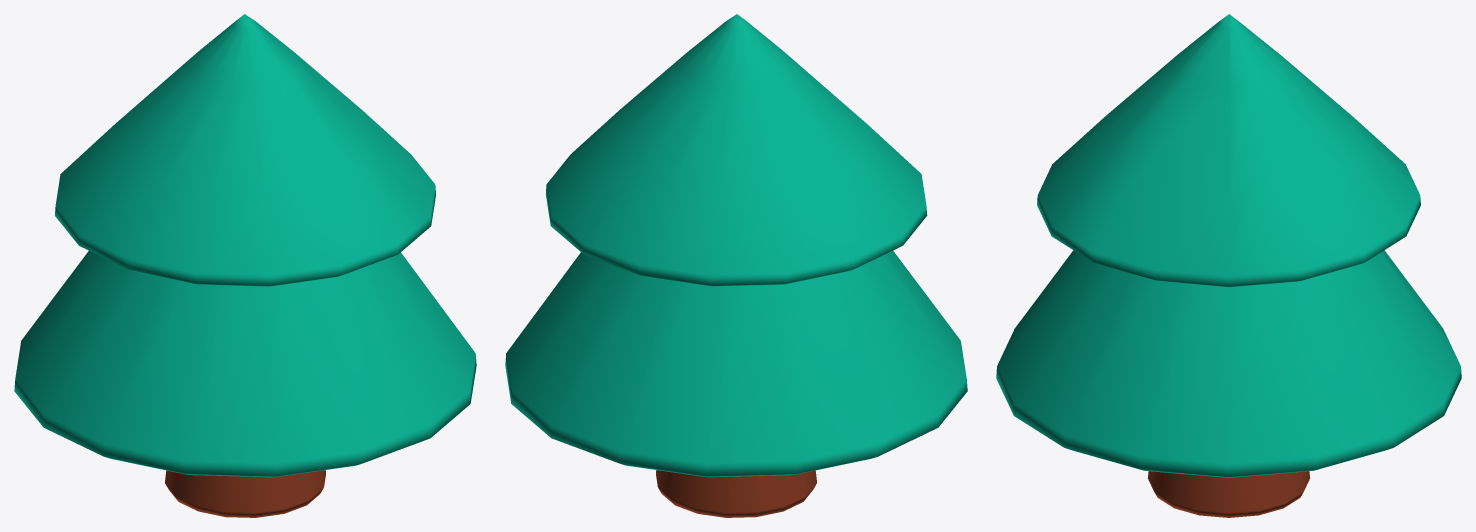
Rendered from TreePineNoSnowLow.fbx.
The picture shows the model from 3 angles, left to right: view 1: azimuth 30°, elevation 25°; view 2: azimuth 150°, elevation 25°; view 3: azimuth 270°, elevation 25°; orthographic projection.
Visible parts, largest first — view 1: TreePine6; view 2: TreePine6; view 3: TreePine6.
Boxes of the visible parts, <box> form: TreePine6: <box>14,14,476,517</box>; TreePine6: <box>505,14,967,517</box>; TreePine6: <box>996,14,1461,517</box>.
Size of the model in its own units: 3.85 by 4.3 by 3.85.
1 material, 1 textured.
